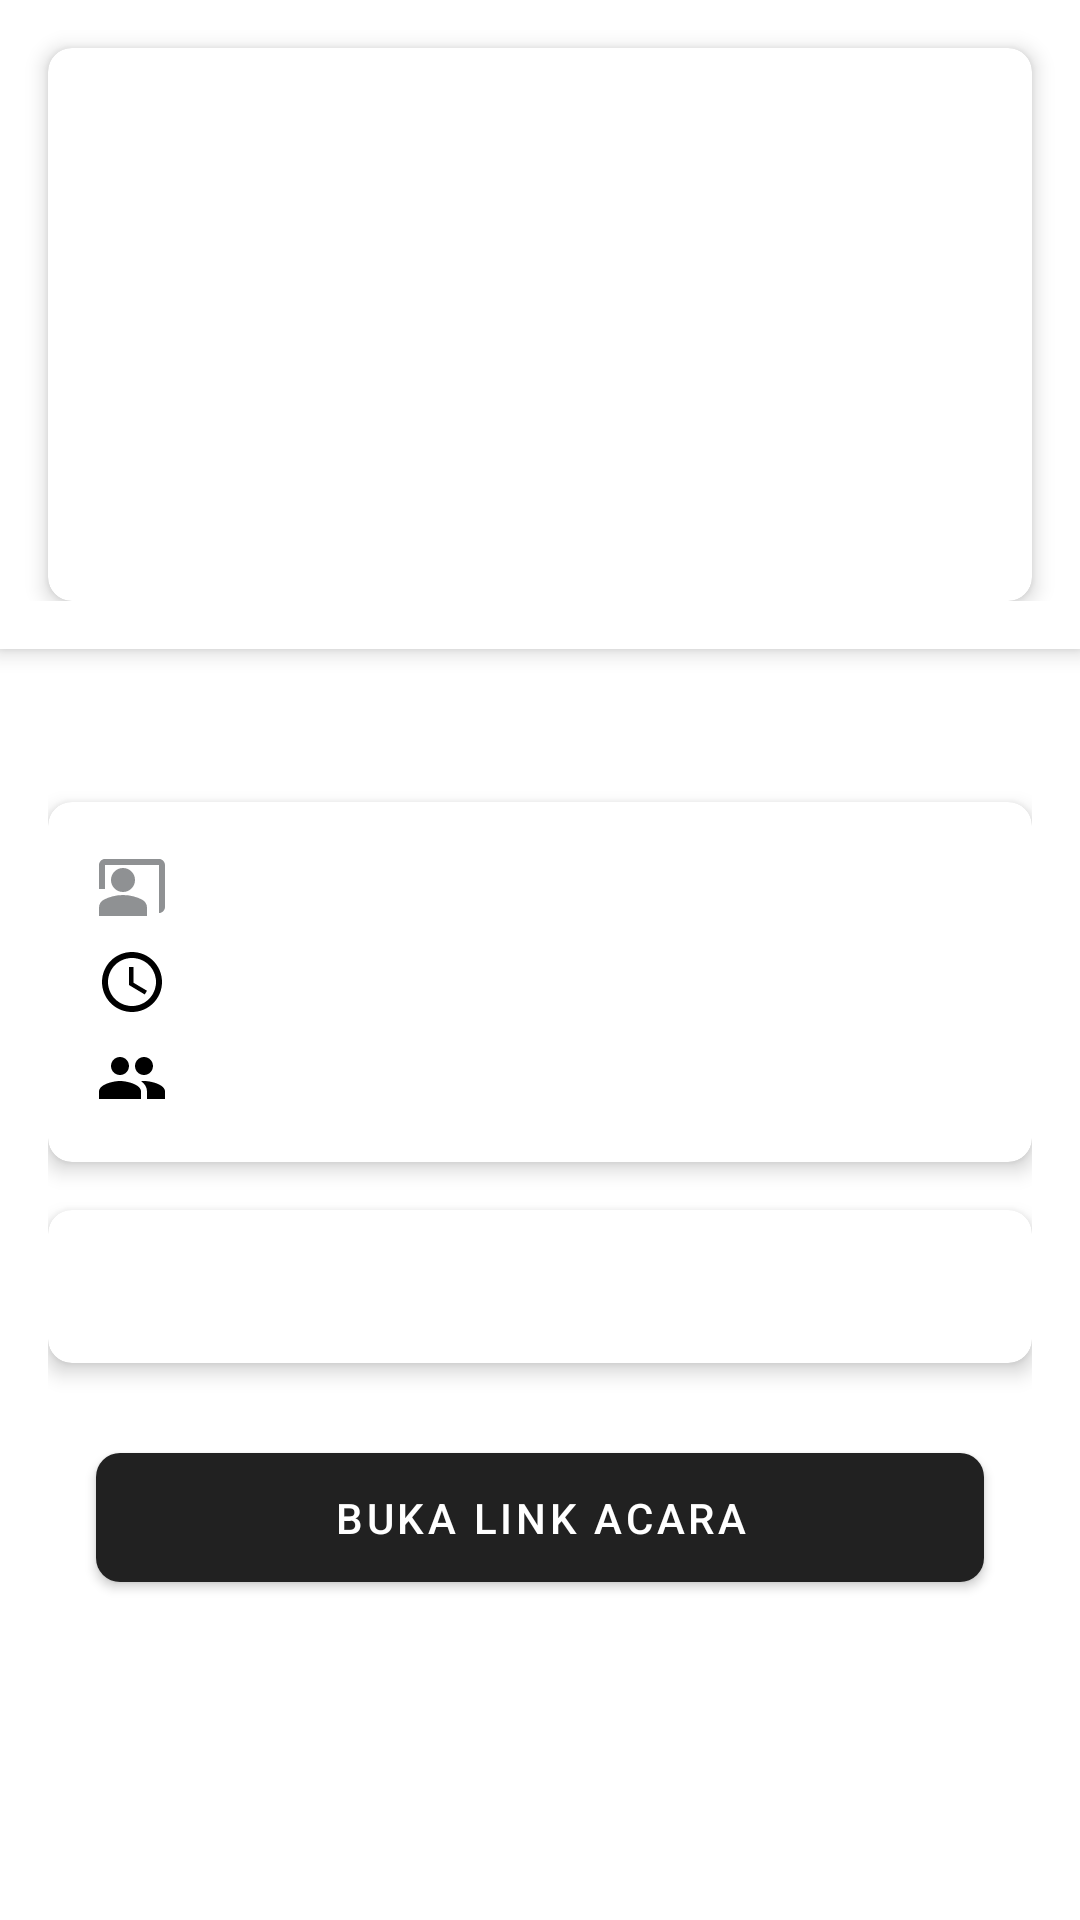

Where icons sit on this 1080 x 1920 app screen, as detection(x1, y1, x2, y2):
people: detection(99, 1057, 165, 1099)
person presenter: detection(99, 859, 165, 916)
time: detection(102, 952, 162, 1012)
